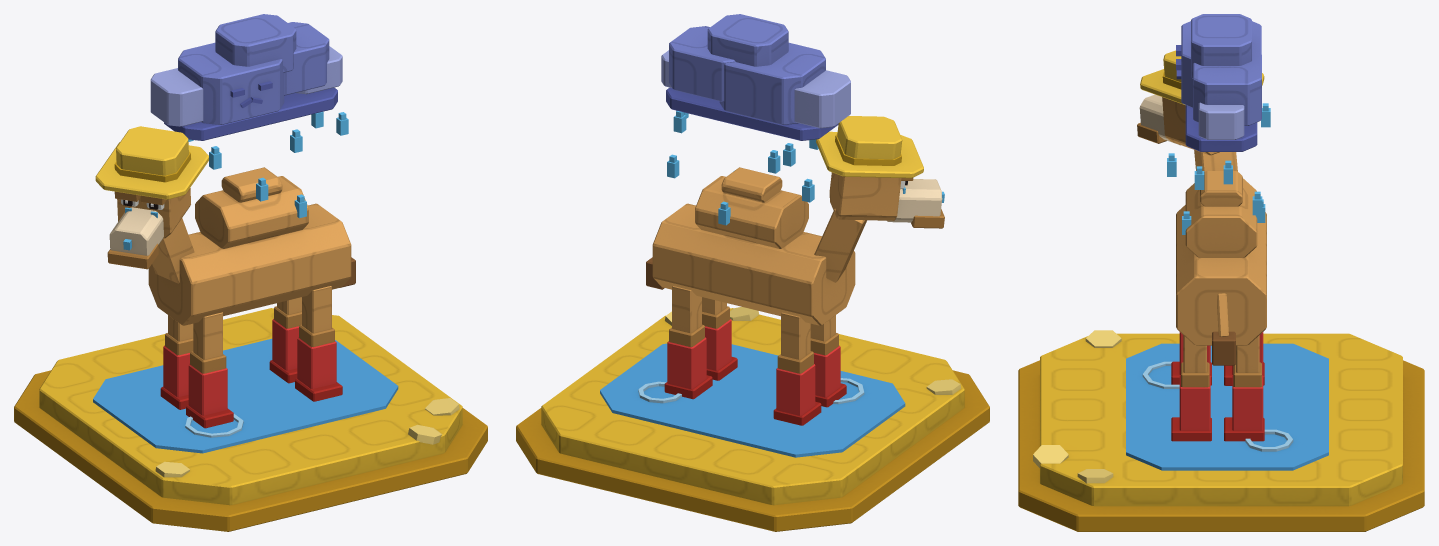
The model's file is CloudCamel.fbx.
3 renders of one model, left to right at view 1: azimuth 30°, elevation 25°; view 2: azimuth 150°, elevation 25°; view 3: azimuth 270°, elevation 25°, orthographic. The views are drawn at different scales.
Parts seen in each view (by area): view 1: Art_CloudCamel_Stand, Art_CloudCamel_Body, Art_CloudCamel_Cloud, Art_CloudCamel_Puddle, Art_CloudCamel_Head, Art_CloudCamel_LegFL, Art_CloudCamel_LegBL, Art_CloudCamel_LegFR, Art_CloudCamel_LegBR, Art_CloudCamel_Rain; view 2: Art_CloudCamel_Stand, Art_CloudCamel_Body, Art_CloudCamel_Cloud, Art_CloudCamel_Puddle, Art_CloudCamel_Head, Art_CloudCamel_LegFR, Art_CloudCamel_LegBR, Art_CloudCamel_LegFL, Art_CloudCamel_LegBL, Art_CloudCamel_Rain; view 3: Art_CloudCamel_Stand, Art_CloudCamel_Puddle, Art_CloudCamel_Body, Art_CloudCamel_Cloud, Art_CloudCamel_Head, Art_CloudCamel_LegBL, Art_CloudCamel_LegBR, Art_CloudCamel_Rain, Art_CloudCamel_Tail, Art_CloudCamel_LegFL.
Boxes of the visible parts, box(x1,y1,x2,y2) form: Art_CloudCamel_Stand: box(14, 308, 487, 531); Art_CloudCamel_Body: box(148, 167, 351, 325); Art_CloudCamel_Cloud: box(150, 14, 342, 140); Art_CloudCamel_Puddle: box(93, 338, 398, 453); Art_CloudCamel_Head: box(95, 126, 208, 269); Art_CloudCamel_LegFL: box(186, 312, 233, 428); Art_CloudCamel_LegBL: box(295, 286, 342, 401); Art_CloudCamel_LegFR: box(160, 315, 193, 409); Art_CloudCamel_LegBR: box(269, 297, 301, 383); Art_CloudCamel_Rain: box(188, 111, 348, 218); Art_CloudCamel_Stand: box(516, 307, 989, 531); Art_CloudCamel_Body: box(652, 167, 866, 325); Art_CloudCamel_Cloud: box(661, 14, 850, 140); Art_CloudCamel_Puddle: box(600, 343, 905, 457); Art_CloudCamel_Head: box(816, 116, 944, 228); Art_CloudCamel_LegFR: box(773, 312, 821, 425); Art_CloudCamel_LegBR: box(664, 286, 712, 399); Art_CloudCamel_LegFL: box(810, 315, 846, 407); Art_CloudCamel_LegBL: box(702, 297, 737, 380); Art_CloudCamel_Rain: box(667, 110, 818, 225); Art_CloudCamel_Stand: box(1018, 330, 1424, 531); Art_CloudCamel_Puddle: box(1126, 343, 1328, 470); Art_CloudCamel_Body: box(1176, 150, 1266, 345); Art_CloudCamel_Cloud: box(1176, 14, 1261, 151); Art_CloudCamel_Head: box(1137, 50, 1264, 155); Art_CloudCamel_LegBL: box(1171, 335, 1211, 441); Art_CloudCamel_LegBR: box(1224, 335, 1264, 441); Art_CloudCamel_Rain: box(1167, 103, 1270, 234); Art_CloudCamel_Tail: box(1212, 293, 1235, 365); Art_CloudCamel_LegFL: box(1171, 332, 1211, 385).
Bounding box in the file's own units: 3.4 × 3.88 × 3.4.
